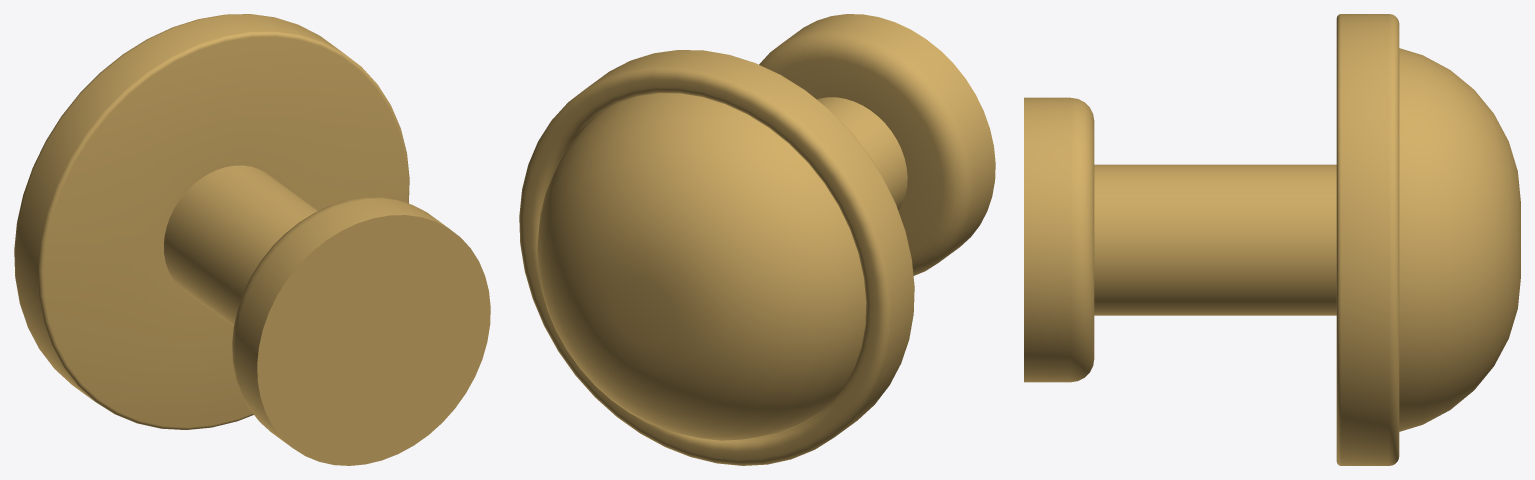
File: Handle.fbx
3 views of the same model, side by side, from view 1: azimuth 30°, elevation 25°; view 2: azimuth 150°, elevation 25°; view 3: azimuth 270°, elevation 25° (orthographic). The views are drawn at different scales.
Visible parts, largest first — view 1: MI 4; view 2: MI 4; view 3: MI 4.
Part boxes in pixels (x1,y1,x2,y2): MI 4: (14, 14, 490, 465); MI 4: (519, 14, 995, 465); MI 4: (1024, 14, 1520, 465).
Size of the model in its own units: 199 by 199 by 219.
